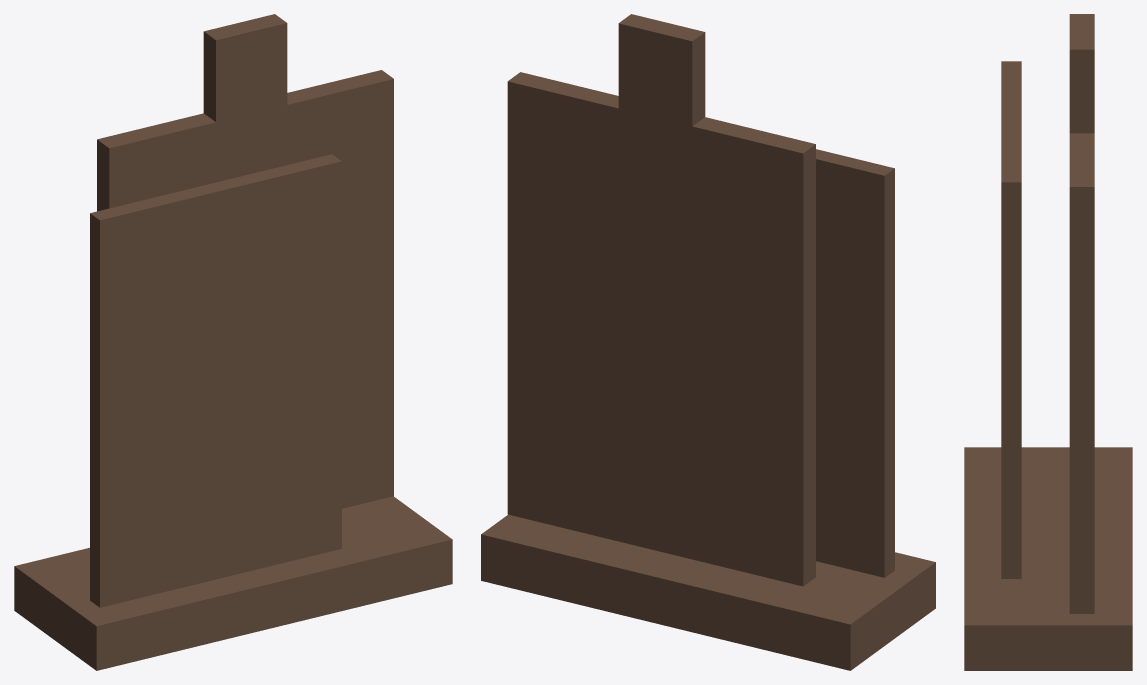
File: kitchen-cutting-boards.glb
3 views of the same model, side by side, from view 1: azimuth 30°, elevation 25°; view 2: azimuth 150°, elevation 25°; view 3: azimuth 270°, elevation 25° (orthographic). The views are drawn at different scales.
Visible parts, largest first — view 1: wood; view 2: wood; view 3: wood.
Part boxes in pixels (x1,y1,x2,y2): wood: (14,14,452,670); wood: (481,14,935,670); wood: (964,14,1132,670).
Size of the model in its own units: 0.25 by 0.37 by 0.1.
